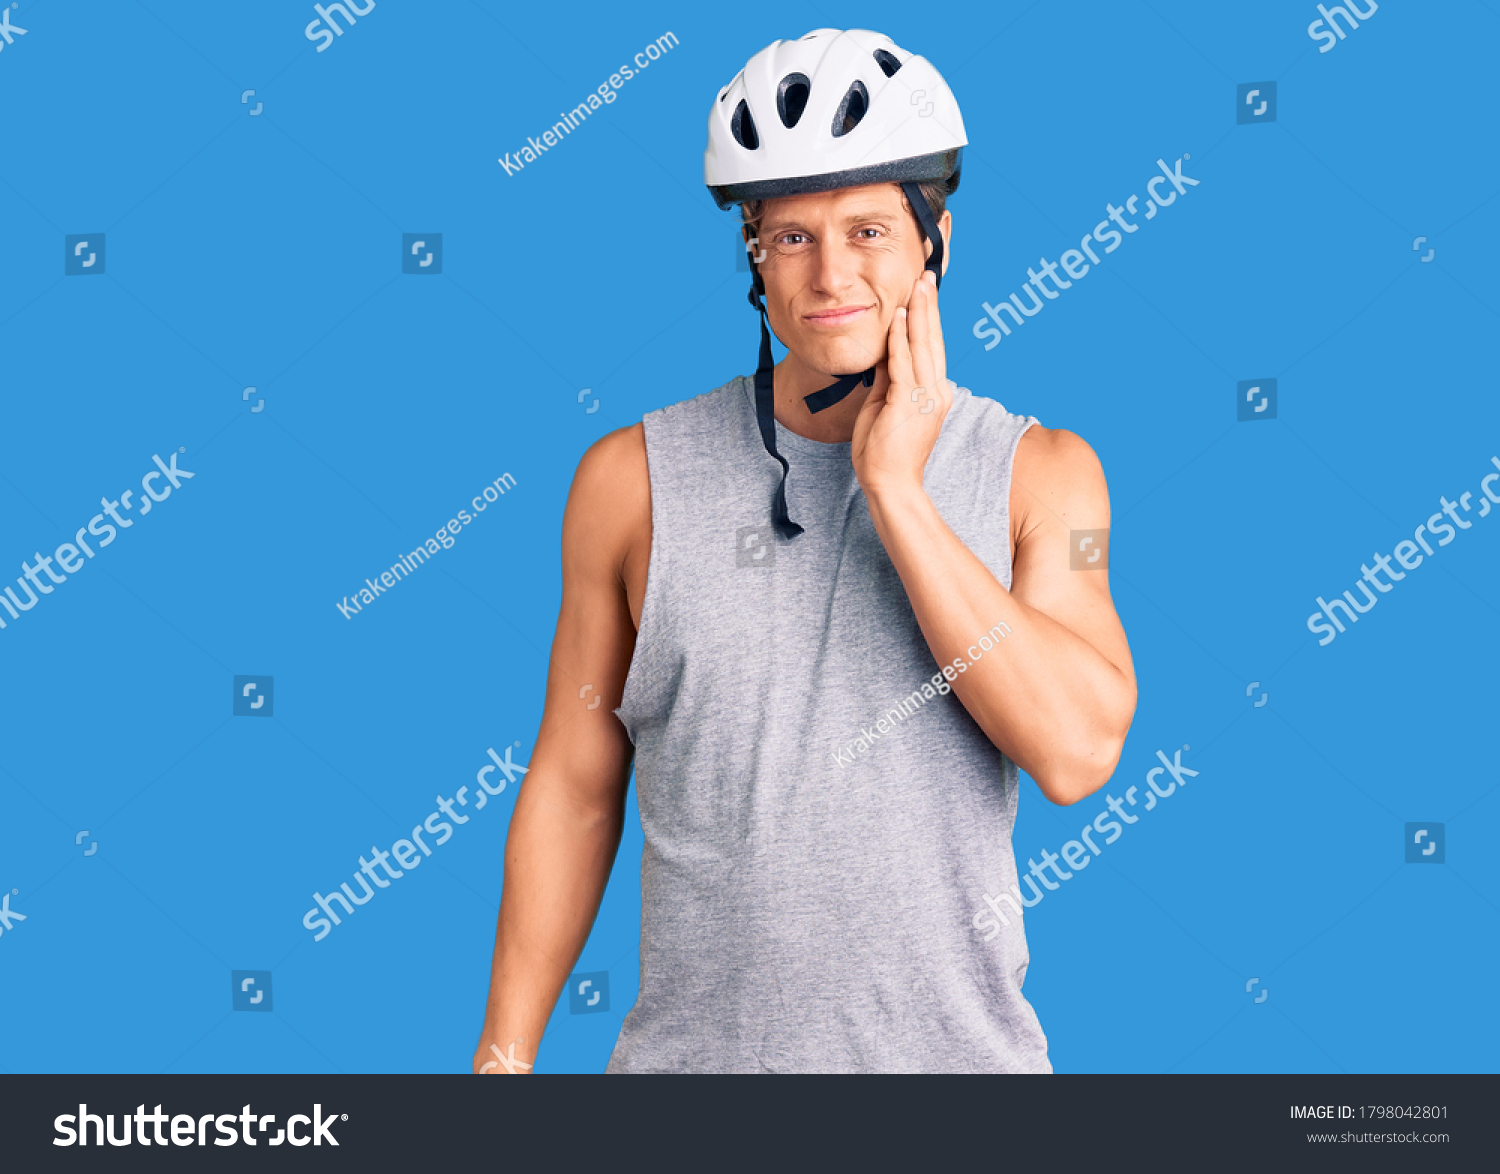helmet: (705, 28, 970, 374)
